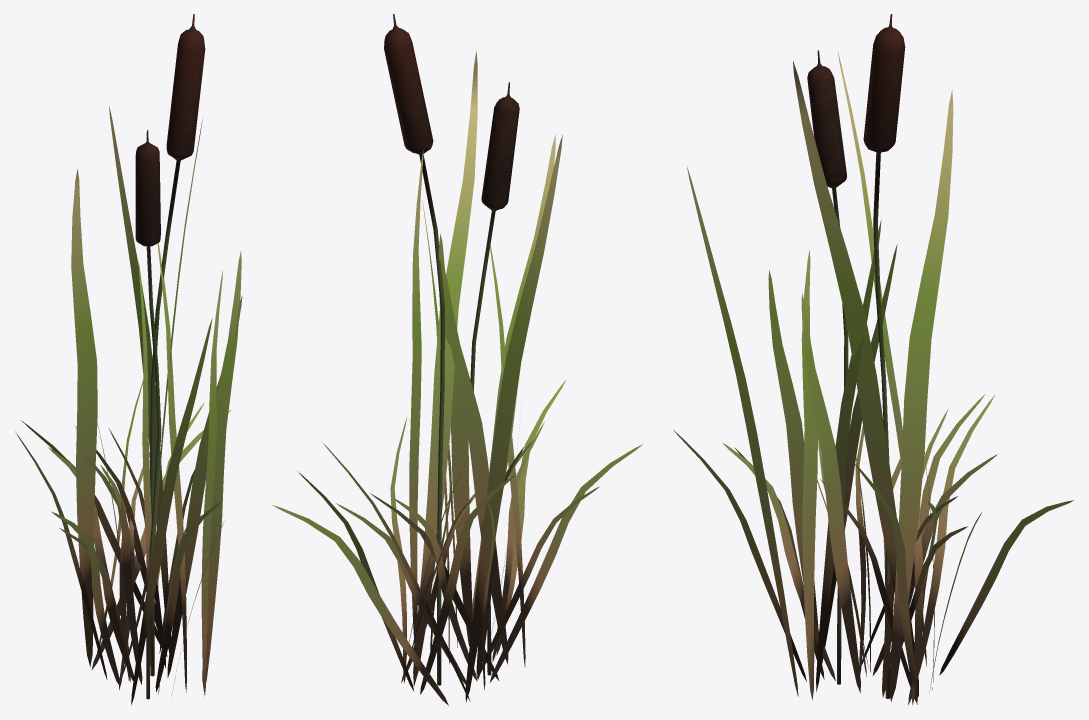
File: tatarak-3.obj
3 views of the same model, side by side, from view 1: azimuth 30°, elevation 25°; view 2: azimuth 150°, elevation 25°; view 3: azimuth 270°, elevation 25° (orthographic). The views are drawn at different scales.
Parts seen in each view (by area): view 1: tatarak3; view 2: tatarak3; view 3: tatarak3.
Part boxes in pixels (box(x1,y1,x2,y2)): tatarak3: box(15, 14, 242, 704); tatarak3: box(272, 14, 642, 705); tatarak3: box(673, 14, 1073, 704).
Size of the model in its own units: 0.4589 by 1.14 by 0.5903.
1 material, 1 textured.
